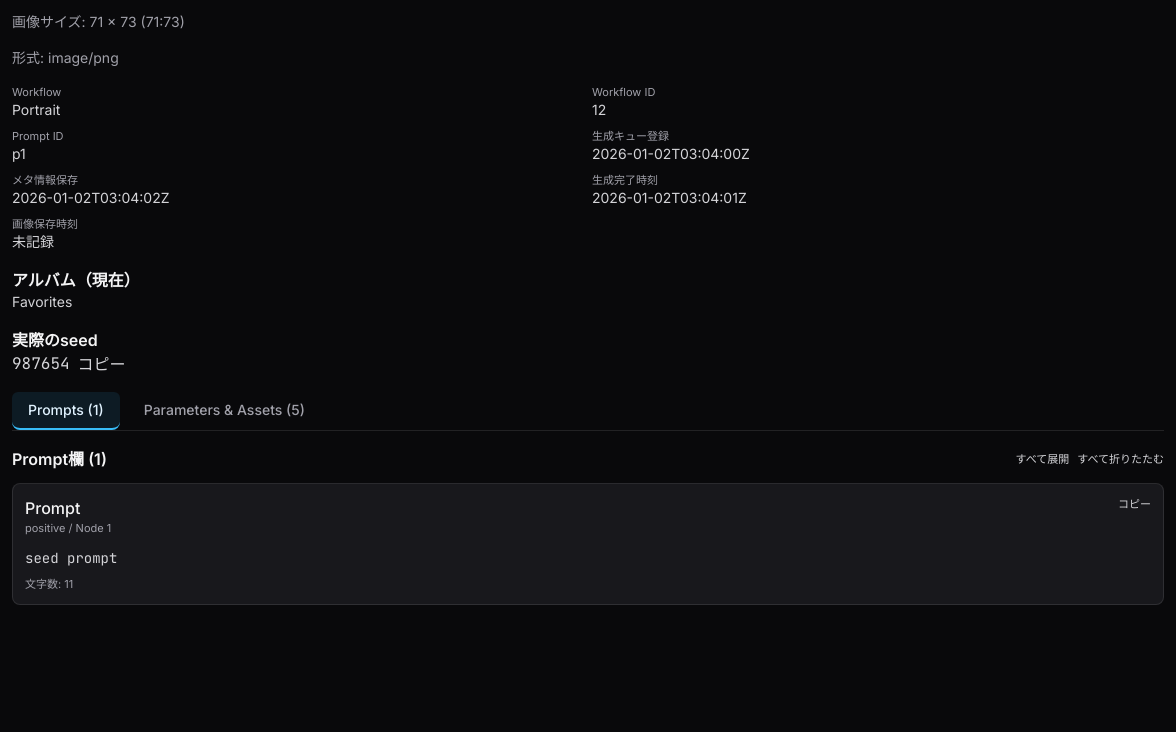
Test: GenerationMetadataPanel › reports clipboard denial without replacing the facts
This screenshot has width=1176, height=732.
Click the button with aria-label "実際のseedをコピー" at (102, 364), box [78,352,126,376]
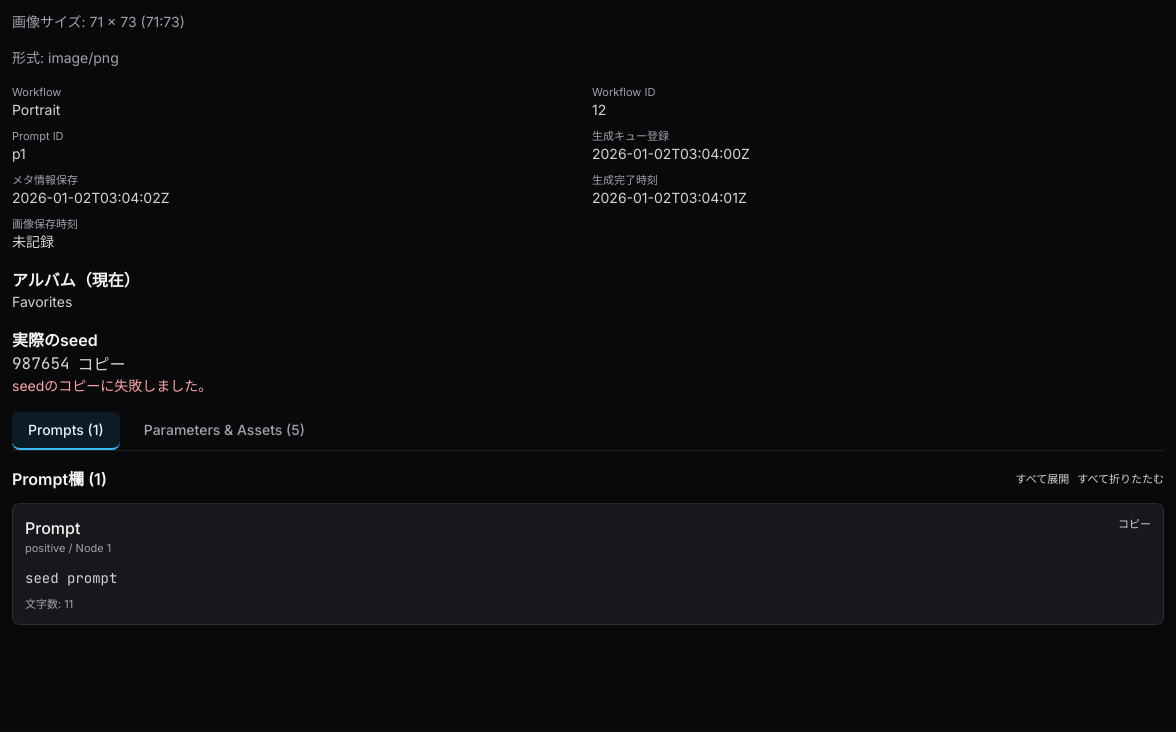
Expected: the text "987654" is shown, [12,352,70,376]
Expected: the text "seedのコピーに失敗しました。" is shown, [12,377,212,394]
